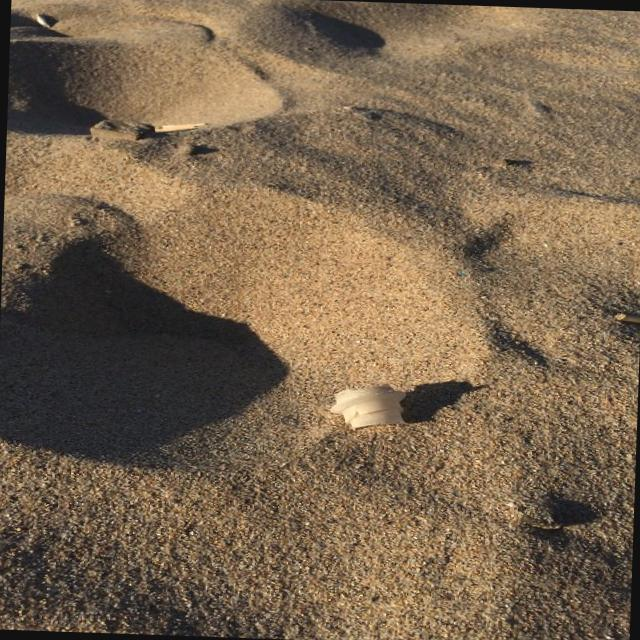Trash: (329, 383, 426, 436)
